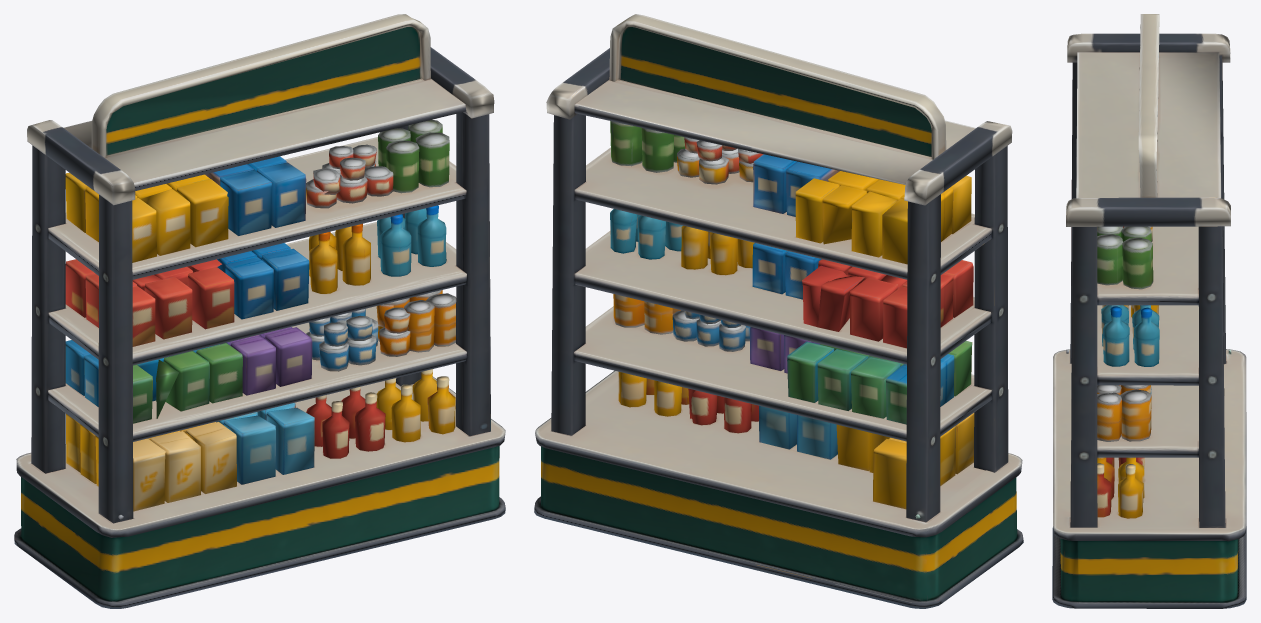
The model's file is retail-shelf.glb.
3 renders of one model, left to right at view 1: azimuth 30°, elevation 25°; view 2: azimuth 150°, elevation 25°; view 3: azimuth 270°, elevation 25°, orthographic. The views are drawn at different scales.
Visible parts, largest first — view 1: geometry_0; view 2: geometry_0; view 3: geometry_0.
Boxes of the visible parts, bbox=[...] form: geometry_0: bbox=[14, 14, 505, 608]; geometry_0: bbox=[534, 14, 1023, 608]; geometry_0: bbox=[1052, 14, 1246, 608].
Size of the model in its own units: 0.9002 by 1 by 0.3959.
1 material, 1 textured.
